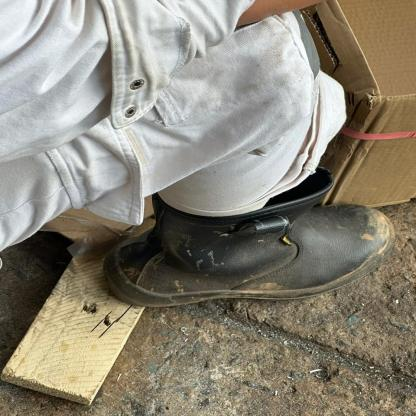bota: (91, 164, 402, 306)
